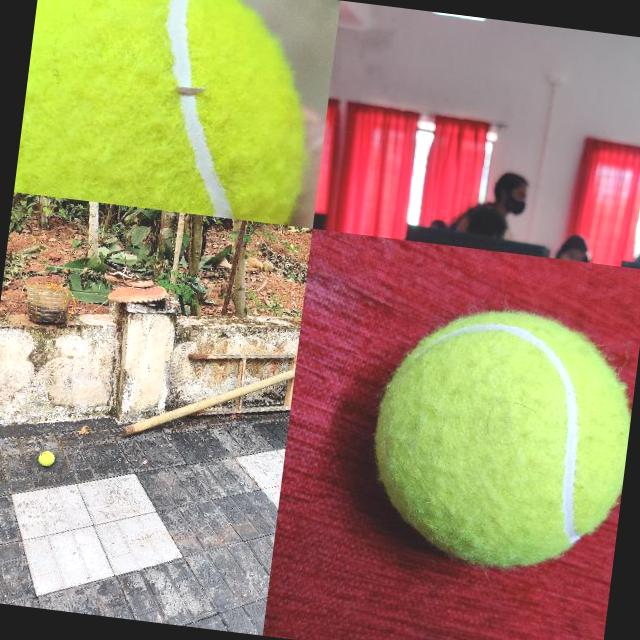Tennis Ball: (359, 293, 640, 580), (14, 0, 321, 225), (37, 448, 56, 466)
